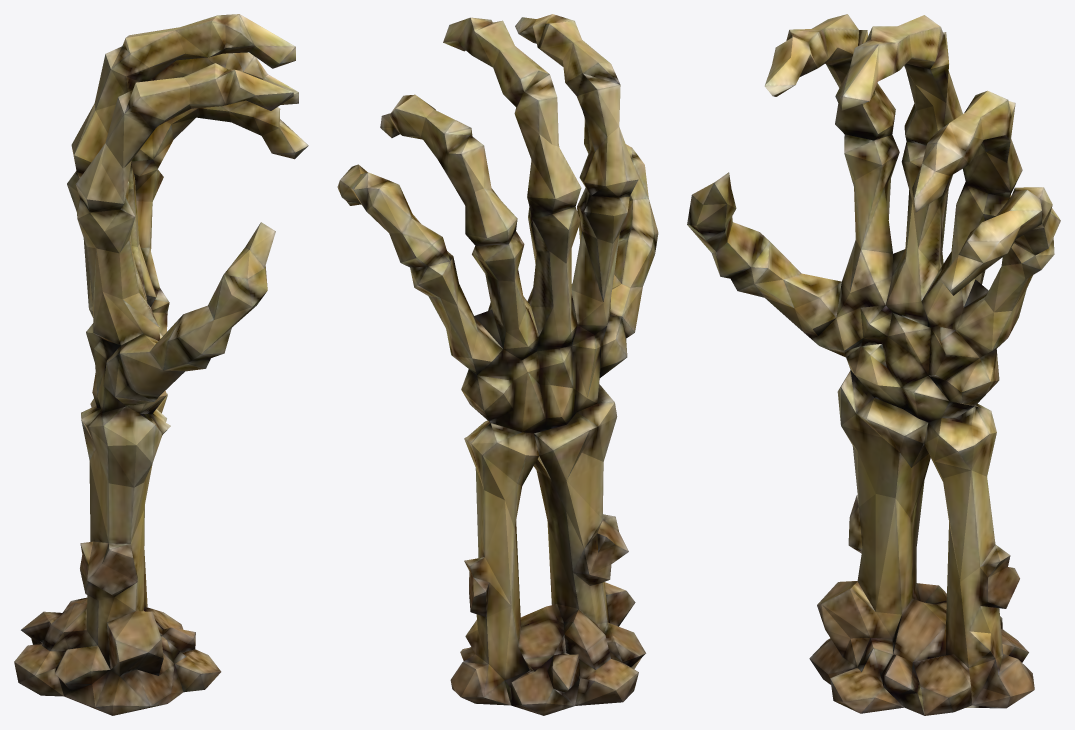
File: bone_hand.glb
3 renders of one model, left to right at view 1: azimuth 30°, elevation 25°; view 2: azimuth 150°, elevation 25°; view 3: azimuth 270°, elevation 25°, orthographic. The views are drawn at different scales.
Parts seen in each view (by area): view 1: tripo_node_1418afa6-de72-439b-aa8d-076f1693b63b.001; view 2: tripo_node_1418afa6-de72-439b-aa8d-076f1693b63b.001; view 3: tripo_node_1418afa6-de72-439b-aa8d-076f1693b63b.001.
Part boxes in pixels (left/top/right/bottom): tripo_node_1418afa6-de72-439b-aa8d-076f1693b63b.001: left=14, top=14, right=308, bottom=715; tripo_node_1418afa6-de72-439b-aa8d-076f1693b63b.001: left=337, top=14, right=658, bottom=715; tripo_node_1418afa6-de72-439b-aa8d-076f1693b63b.001: left=687, top=14, right=1060, bottom=715.
Size of the model in its own units: 0.4615 by 0.9758 by 0.4804.
Materials: 1 (1 with a texture image).
